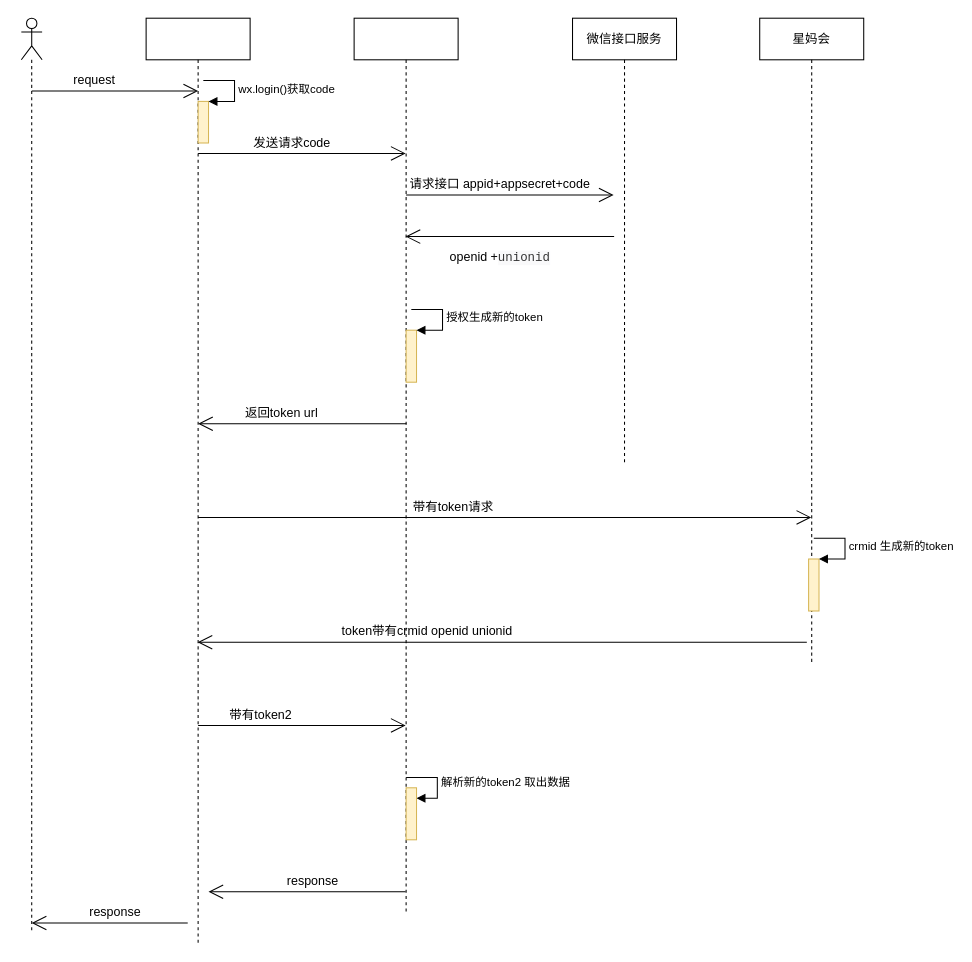
This 972x962 diagram has some shape labels left out. The shapes that lost their labels are listed below. From the top down, each one's box as (x1, y1, x2, y2) in pixels, then its label:
(145, 17, 250, 944): 小程序
(353, 17, 458, 913): 优选后端服务
